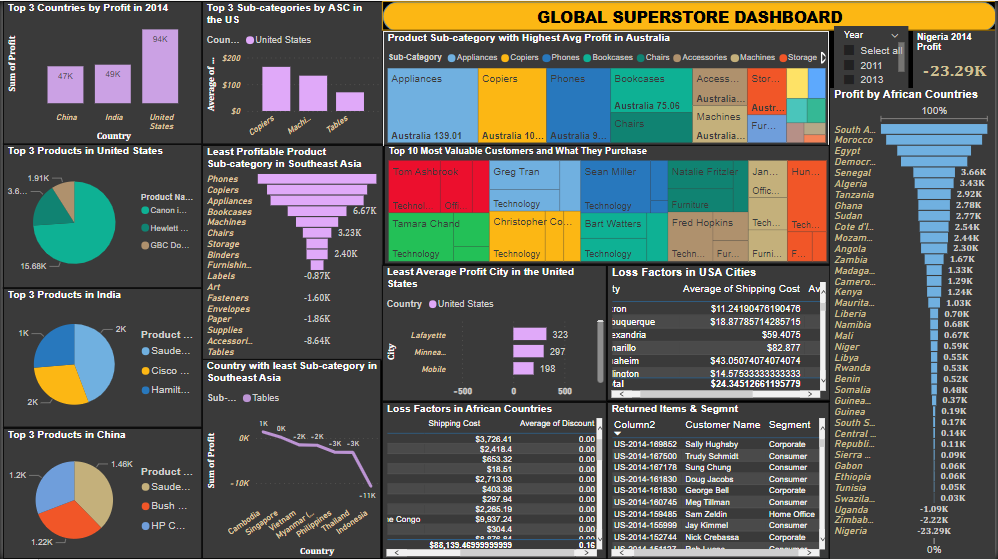

Layout of this report page (visuals, bound fields, positions):
{"tool":"powerbi","page":{"name":"DASHBOARD","canvas":[1280,720],"ordinal":0},"visuals":[{"type":"columnChart","title":"Top 3 Countries by Profit in 2014","fields":{"Category":["Orders.Country"],"Y":["Orders.Profit"],"Series":["Orders.Order Date.Variation.Date Hierarchy.Year"]},"box":[0,0,257.1,184.7],"z":0},{"type":"pieChart","title":"Top 3 Products in United States","fields":{"Category":["Orders.Product Name","Orders.Order Date.Variation.Date Hierarchy.Year"],"Y":["Orders.Profit"],"Series":["Orders.Country"]},"box":[0,184.7,257.1,186.1],"z":1000},{"type":"pieChart","title":"Top 3 Products in India","fields":{"Category":["Orders.Product Name","Orders.Order Date.Variation.Date Hierarchy.Year"],"Y":["Orders.Profit"],"Series":["Orders.Country"]},"box":[0,370.8,257.1,180.4],"z":2000},{"type":"pieChart","title":"Top 3 Products in China","fields":{"Category":["Orders.Product Name","Orders.Order Date.Variation.Date Hierarchy.Year"],"Y":["Orders.Profit"],"Series":["Orders.Country"]},"box":[0,551.2,257.1,169.1],"z":3000},{"type":"columnChart","title":"Top 3 Sub-categories by ASC in the US","fields":{"Category":["Orders.Sub-Category"],"Series":["Orders.Country"],"Y":["Orders.Shipping Cost"]},"box":[257.1,0,234.4,184.7],"z":4000},{"type":"funnel","title":"Least Profitable Product Sub-category in Southeast Asia","fields":{"Category":["Orders.Sub-Category","Orders.Country"],"Y":["Orders.Profit"]},"box":[257.1,186.1,234.4,278.4],"z":5000},{"type":"lineChart","title":"Country with least Sub-category in Southeast Asia","fields":{"Category":["Orders.Country"],"Y":["Orders.Profit"],"Series":["Orders.Sub-Category"]},"box":[257.2,461.7,231.4,258.3],"z":6000},{"type":"clusteredBarChart","title":"Least Average Profit City in the United States","fields":{"Category":["Orders.City"],"Y":["Orders.Profit"],"Series":["Orders.Country"]},"box":[488.7,341,289.8,176.2],"z":7000},{"type":"treemap","title":"Product Sub-category with Highest Avg Profit  in Australia","fields":{"Group":["Orders.Sub-Category"],"Details":["Orders.Country"],"Values":["Orders.Profit"]},"box":[490.9,38.2,575.1,148.3],"z":8000},{"type":"tableEx","title":"Returned Items & Segmnt","fields":{"Values":["Returns.Column2","Orders.Customer Name","Orders.Segment"]},"box":[779.9,517.1,287,203.2],"z":9000},{"type":"treemap","title":"Top 10 Most Valuable Customers and What They Purchase","fields":{"Group":["Orders.Customer Name"],"Details":["Orders.Category"],"Values":["Orders.Sales"]},"box":[490.9,186.5,575.1,153.9],"z":10000},{"type":"shape","box":[488.6,0,791.9,38.2],"z":11000},{"type":"tableEx","title":"Loss Factors in USA Cities","fields":{"Values":["Orders.City","Orders.Shipping Cost","Orders.Discount"]},"box":[779.5,340.3,287.6,175.2],"z":12000},{"type":"funnel","title":"Profit by African Countries","fields":{"Category":["Orders.Country","Orders.Order Date.Variation.Date Hierarchy.Year"],"Y":["Orders.Profit"]},"box":[1066.9,112.2,213.1,608],"z":13000},{"type":"slicer","fields":{"Values":["Orders.Order Date.Variation.Date Hierarchy.Year"]},"box":[1072,32,96,80],"z":14000},{"type":"tableEx","title":"Loss Factors in African Countries","fields":{"Values":["Orders.Country","Orders.Shipping Cost","Orders.Discount"]},"box":[488.7,517.1,289.8,203.2],"z":15000},{"type":"card","title":"Nigeria 2014 Profit","fields":{"Values":["Orders.Profit"]},"box":[1173.8,38.2,106.7,74.1],"z":16000}]}

Visuals, with their boxes in screenshot pixels (x1, y1, x2, y2), scaled from the page's 1280x720 canvas onto the 998x560 screenshot:
"Top 3 Countries by Profit in 2014" columnChart: 0/0/200/144
"Top 3 Products in United States" pieChart: 0/144/200/288
"Top 3 Products in India" pieChart: 0/288/200/429
"Top 3 Products in China" pieChart: 0/429/200/559
"Top 3 Sub-categories by ASC in the US" columnChart: 200/0/383/144
"Least Profitable Product Sub-category in Southeast Asia" funnel: 200/145/383/361
"Country with least Sub-category in Southeast Asia" lineChart: 201/359/381/559
"Least Average Profit City in the United States" clusteredBarChart: 381/265/607/402
"Product Sub-category with Highest Avg Profit  in Australia" treemap: 383/30/831/145
"Returned Items & Segmnt" tableEx: 608/402/832/559
"Top 10 Most Valuable Customers and What They Purchase" treemap: 383/145/831/265
shape: 381/0/997/30
"Loss Factors in USA Cities" tableEx: 608/265/832/401
"Profit by African Countries" funnel: 832/87/997/559
slicer - Orders.Order Date.Variation.Date Hierarchy.Year: 836/25/911/87
"Loss Factors in African Countries" tableEx: 381/402/607/559
"Nigeria 2014 Profit" card: 915/30/997/87
